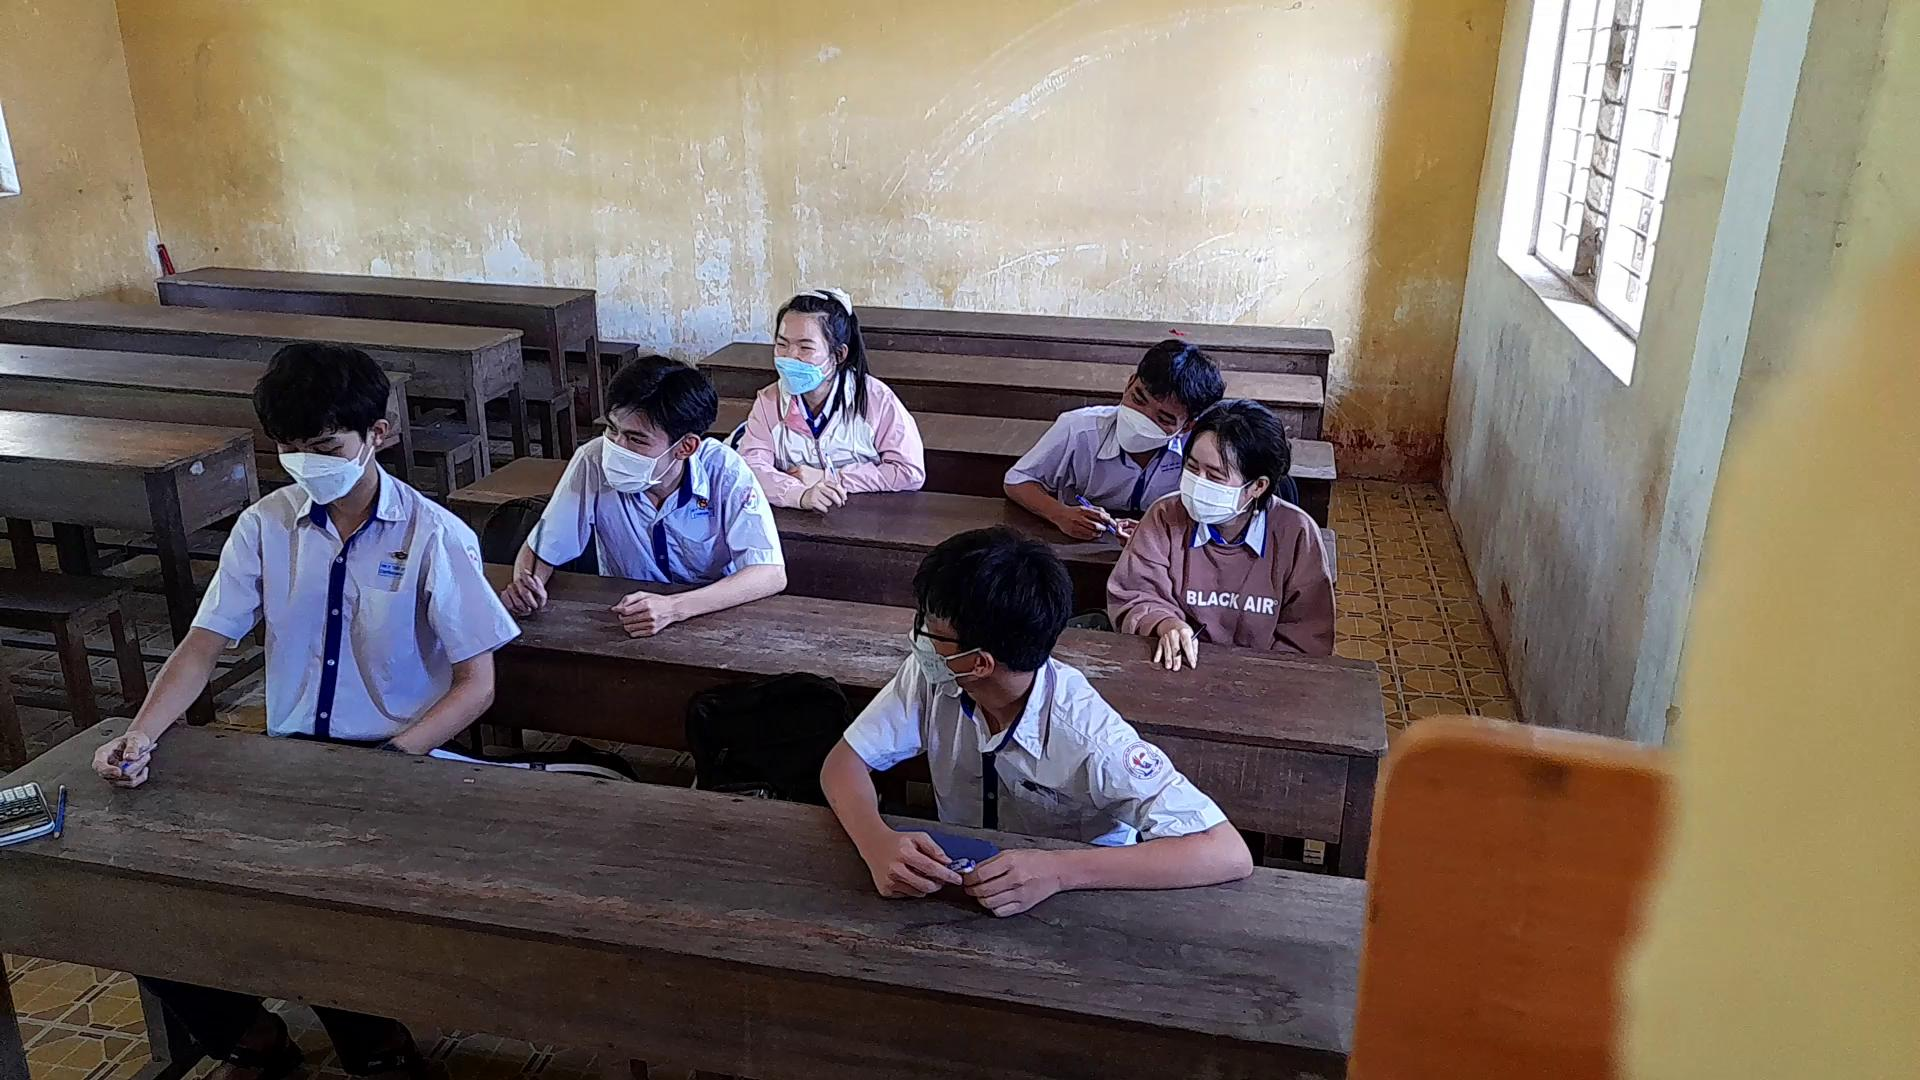Hand Under Table: (371, 516, 502, 758)
Look Around: (891, 524, 1083, 709), (713, 247, 905, 433), (556, 342, 746, 526), (1171, 388, 1302, 547), (1105, 305, 1236, 464)
